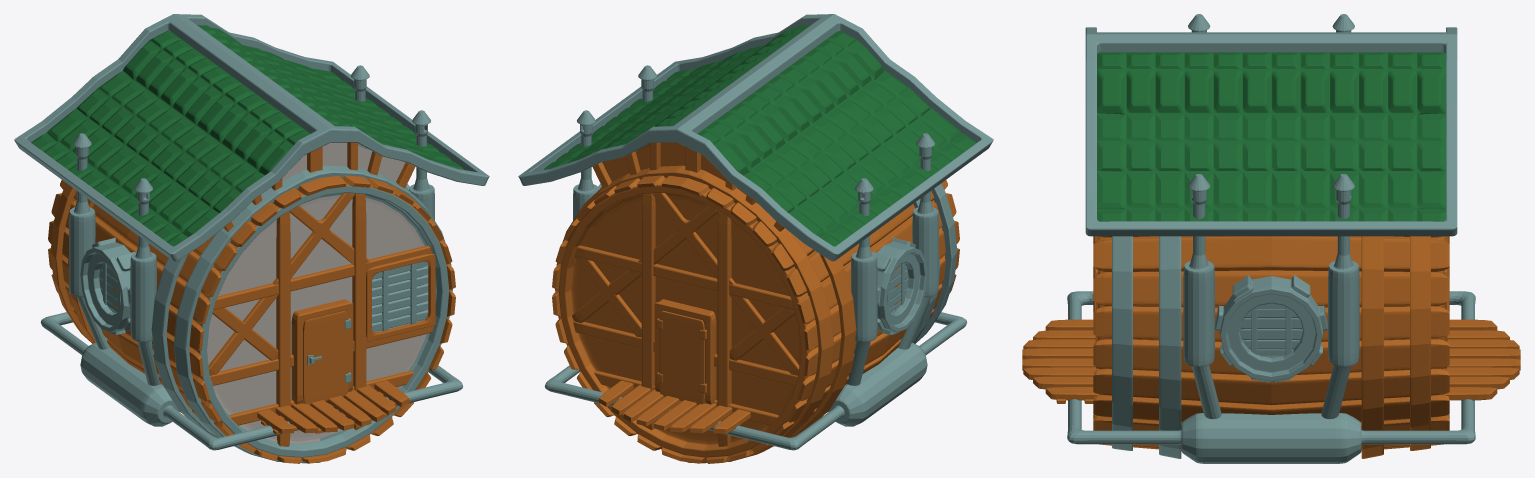
File: RatHouse.fbx
3 renders of one model, left to right at view 1: azimuth 30°, elevation 25°; view 2: azimuth 150°, elevation 25°; view 3: azimuth 270°, elevation 25°, orthographic. The views are drawn at different scales.
Parts seen in each view (by area): view 1: Home, Door; view 2: Home; view 3: Home.
Part boxes in pixels (x1,y1,x2,y2): Home: (14,14,489,463); Door: (303,310,351,404); Home: (518,14,993,463); Home: (1022,14,1520,463).
Size of the model in its own units: 2772 by 2921 by 3174.
